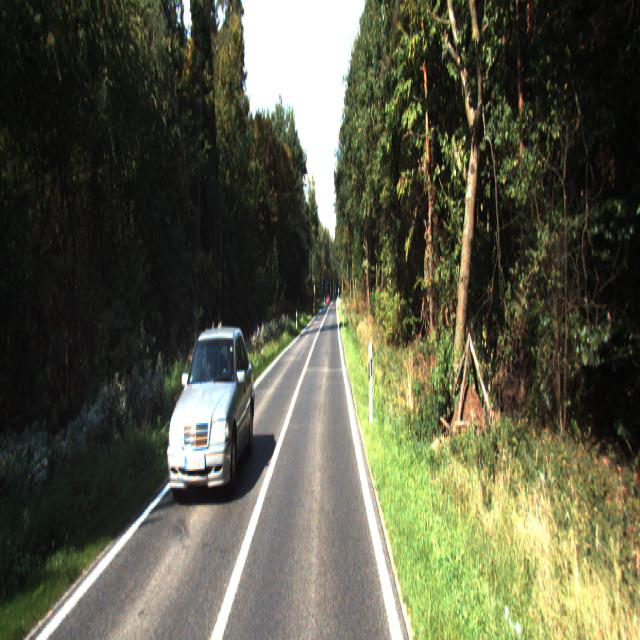Car: (165, 320, 258, 506)
